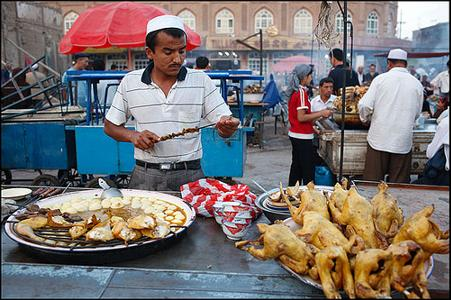person: (107, 16, 239, 194)
